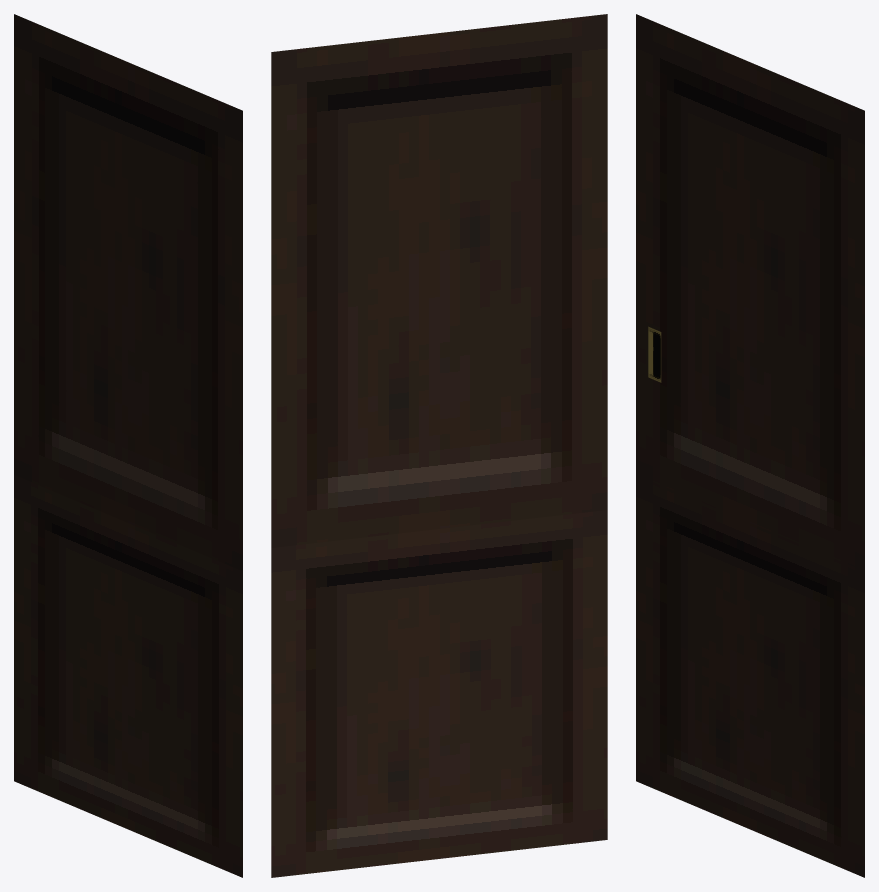
File: wooden_door_1.glb
The picture shows the model from 3 angles, left to right: view 1: azimuth 90°, elevation 25°; view 2: azimuth 150°, elevation 25°; view 3: azimuth 270°, elevation 25°; orthographic projection. The views are drawn at different scales.
Visible parts, largest first — view 1: Object; view 2: Object; view 3: Object.
Boxes of the visible parts, x1,y1,x2,y2 form: Object: [14, 14, 242, 877]; Object: [271, 14, 607, 877]; Object: [636, 14, 864, 877].
Bounding box in the file's own units: 0.7531 × 2.79 × 0.7531.
7 materials, 7 textured.
